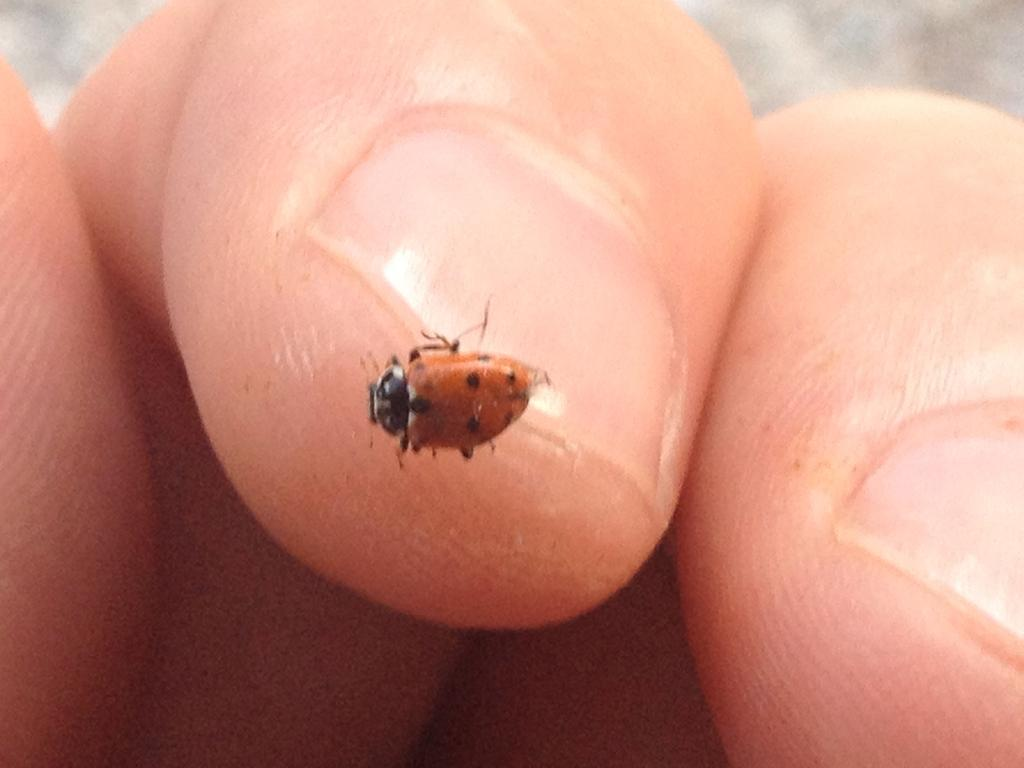ladybug: (357, 297, 557, 475)
